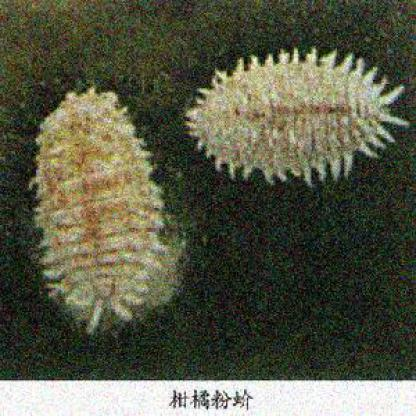mealy bug: (38, 89, 168, 336), (192, 60, 385, 176)
